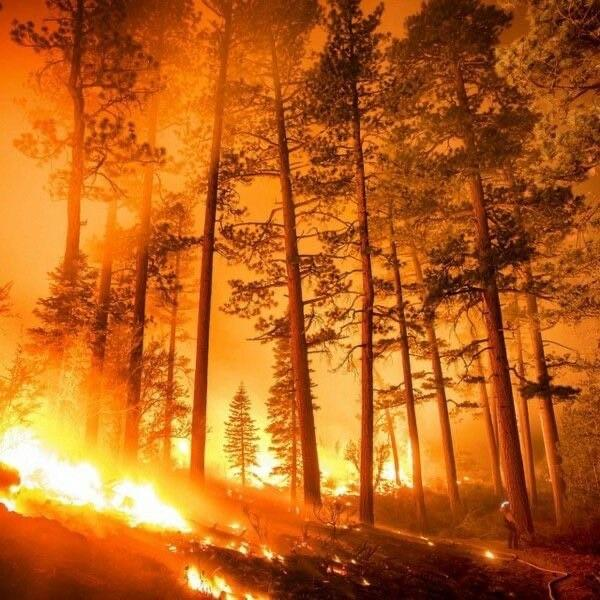fire: (0, 391, 197, 545), (303, 398, 418, 492), (165, 527, 283, 600)
